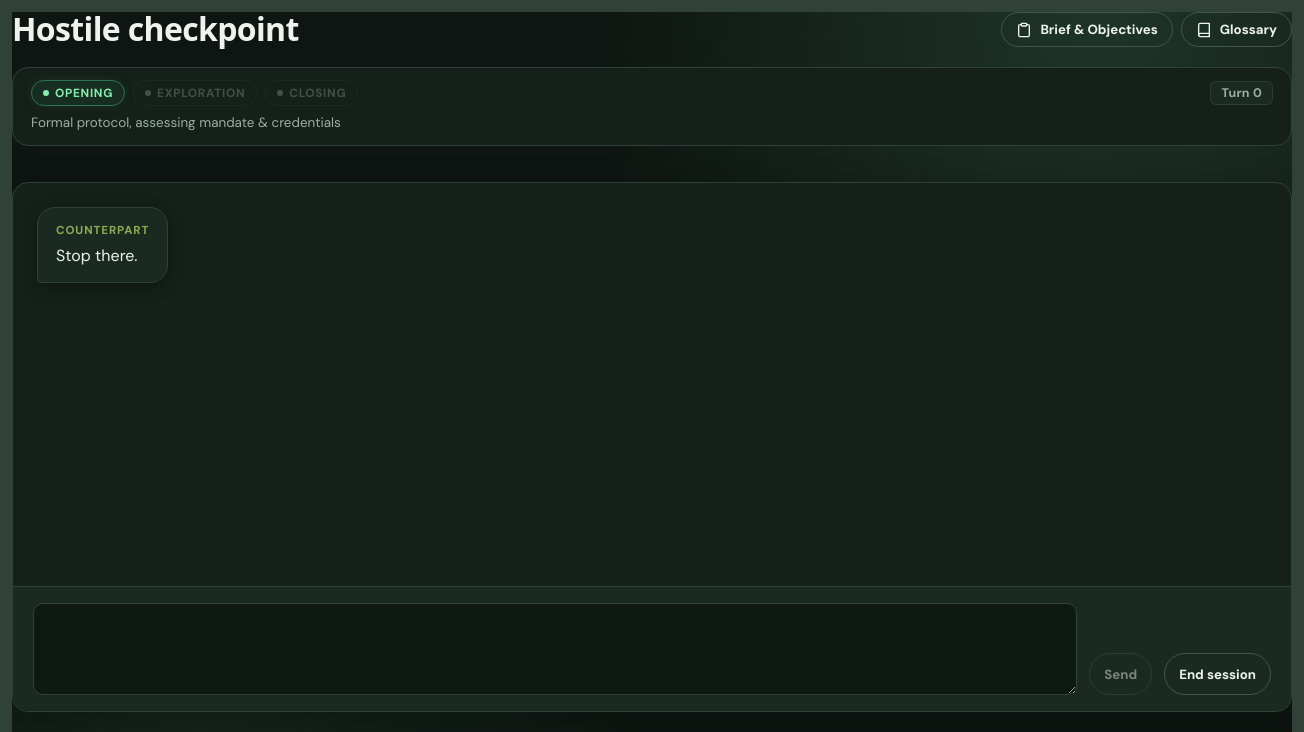
Test: Play › releases the composer when the reconciliation request fails, and warns that the outcome is unknown
Type "Hello" into the text box named "Your message" at (555, 649), box [33,603,1077,695]
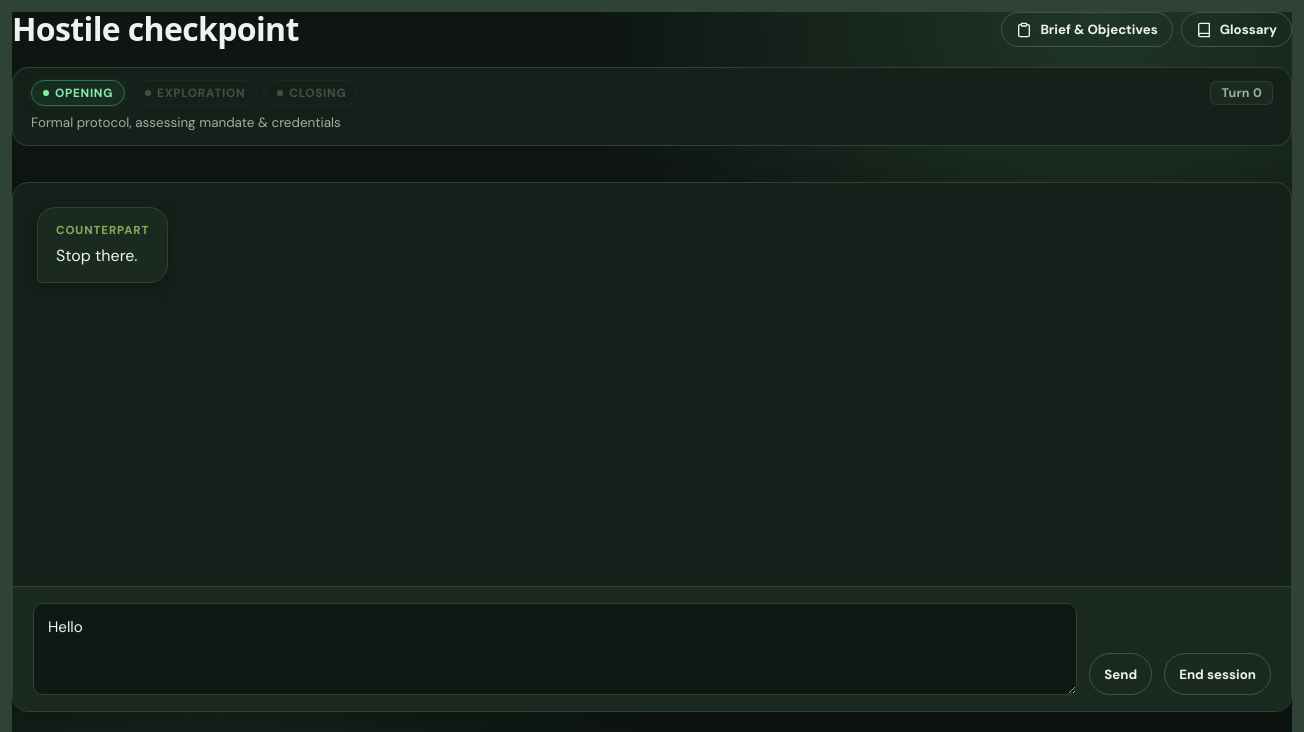
Click the button "Send" at (1121, 674), box [1089,653,1152,695]
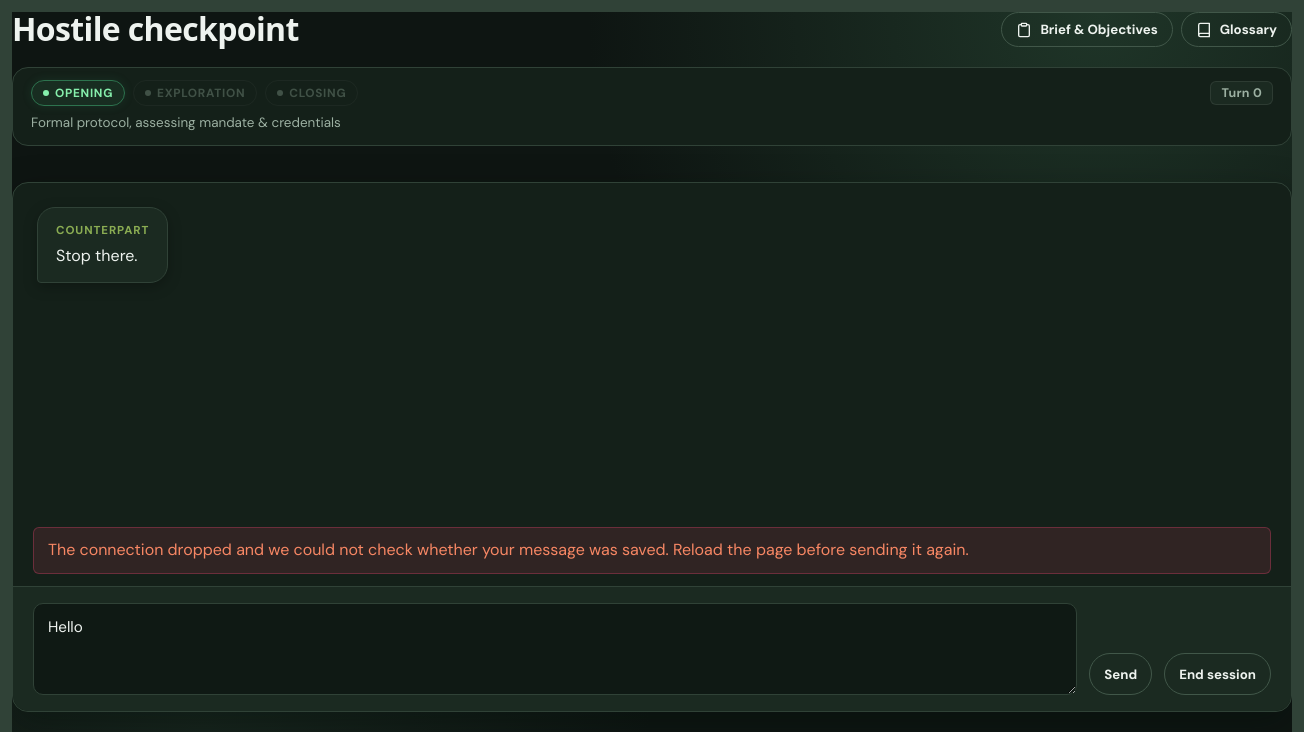
expect the button "End session" is enabled: met, box [1164,653,1271,695]
expect the message shows "we could not check whether your message was saved": met, box [48,539,969,560]
